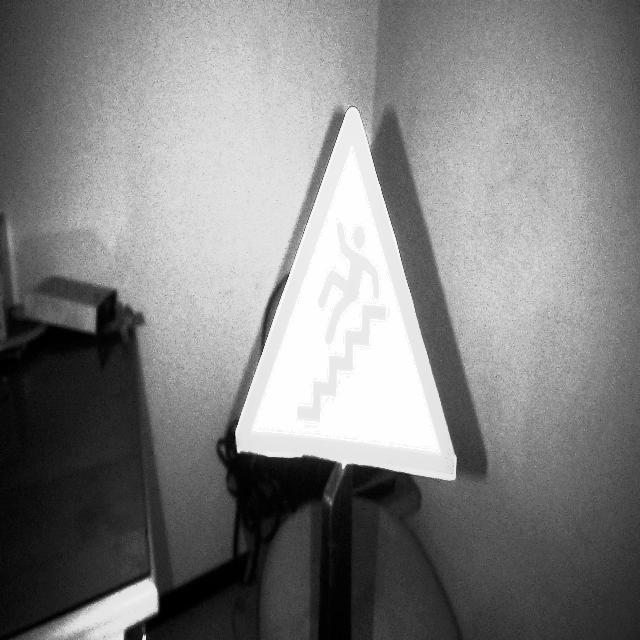Sign: (234, 107, 458, 483)
